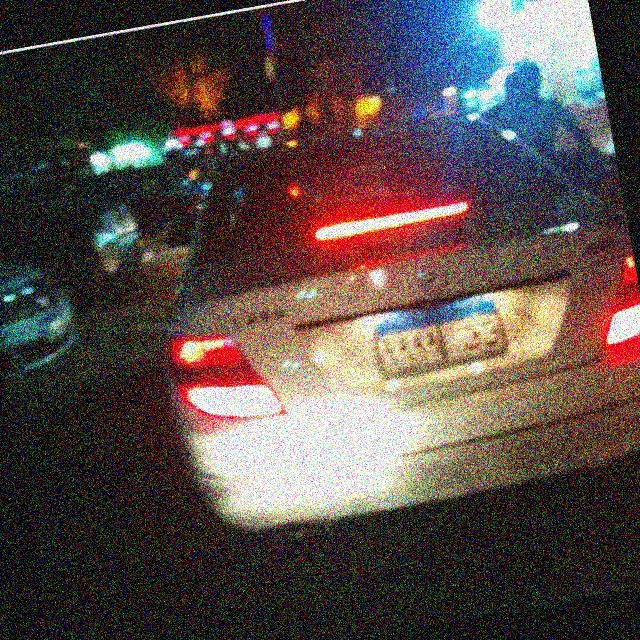License Plate: (365, 288, 514, 383)
